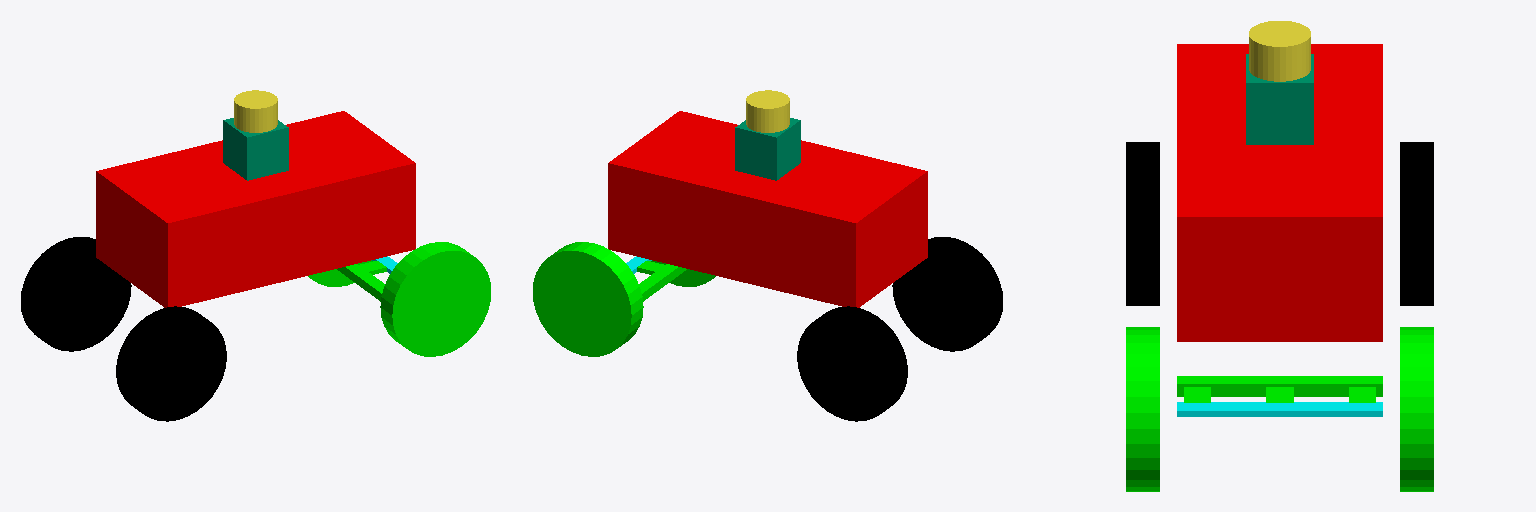
URDF robot description (navgroup):
<?xml version="1.0" ?>
<!-- =================================================================================== -->
<!-- |    This document was autogenerated by xacro from car.urdf.xacro                 | -->
<!-- |    EDITING THIS FILE BY HAND IS NOT RECOMMENDED                                 | -->
<!-- =================================================================================== -->
<robot name="navgroup" xmlns:body="http://playerstage.sourceforge.net/gazebo/xmlschema/#body" xmlns:controller="http://playerstage.sourceforge.net/gazebo/xmlschema/#controller" xmlns:gazebo="http://playerstage.sourceforge.net/gazebo/xmlschema/#gz" xmlns:geom="http://playerstage.sourceforge.net/gazebo/xmlschema/#geom" xmlns:interface="http://playerstage.sourceforge.net/gazebo/xmlschema/#interface" xmlns:joint="http://playerstage.sourceforge.net/gazebo/xmlschema/#joint" xmlns:model="http://playerstage.sourceforge.net/gazebo/xmlschema/#model" xmlns:physics="http://playerstage.sourceforge.net/gazebo/xmlschema/#physics" xmlns:rendering="http://playerstage.sourceforge.net/gazebo/xmlschema/#rendering" xmlns:sensor="http://playerstage.sourceforge.net/gazebo/xmlschema/#sensor" xmlns:xacro="http://www.ros.org/wiki/xacro">
  <!-- Physical Constant Macros -->
  <!-- Dimension Macros -->
  <!-- Physical Material Macros -->
  <material name="Red">
    <color rgba="1.0 0 0 1.0"/>
  </material>
  <material name="Green">
    <color rgba="0 1.0 0 1.0"/>
  </material>
  <material name="Blue">
    <color rgba="0 0 1.0 0.5"/>
  </material>
  <material name="Black">
    <color rgba="0 0 0 1.0"/>
  </material>
  <material name="Aqua">
    <color rgba="0 255 255 1.0"/>
  </material>

  <!-- Main body -->
  <link name="base_link">
    <inertial>
      <mass value="0.2"/>
      <origin xyz="0 0 0"/>
      <inertia ixx="0.2" ixy="0.0" ixz="0.0" iyy="0.2" iyz="0.0" izz="0.2"/>
    </inertial>
    <visual>
      <origin rpy="0 0 0" xyz="0 0 0"/>
      <geometry>
        <box size="0.3 0.15 0.1"/>
      </geometry>
      <material name="Red"/>
    </visual>
    <collision>
      <origin rpy="0 0 0" xyz="0 0 0"/>
      <geometry>
        <box size="0.3 0.15 0.1"/>
      </geometry>
    </collision>
  </link>
  <gazebo reference="base_link">
    <material>Gazebo/Red</material>
  </gazebo>

  <!-- Front link of Ackermann -->
  <!-- Joins to the Car body -->
  <joint name="front_joint" type="fixed">
    <parent link="base_link"/>
    <child link="front_link"/>
    <origin xyz="0.16 0.0 -0.1"/>
  </joint>
  <link name="front_link">
    <inertial>
      <mass value="0.01"/>
      <origin xyz="0 0 0"/>
      <inertia ixx="0.01" ixy="0.0" ixz="0.0" iyy="0.01" iyz="0.0" izz="0.01"/>
    </inertial>
    <visual>
      <geometry>
        <box size="0.015 0.15 0.005"/>
      </geometry>
      <material name="Aqua"/>
    </visual>
    <collision>
      <geometry>
        <box size="0.015 0.15 0.005"/>
      </geometry>
    </collision>
  </link>
  <gazebo reference="front_link">
    <material>Gazebo/Green</material>
  </gazebo>

  <!-- a link aligned with the steer direction -->
  <joint name="steer_joint" type="revolute">
    <limit effort="100" lower="-0.5" upper="0.5" velocity="10"/>
    <axis xyz="0 0 1"/>
    <parent link="front_link"/>
    <child link="steer_link"/>
    <origin rpy="0 0 0" xyz="0.0 0.0 0.0"/>
  </joint>
  <link name="steer_link">
    <inertial>
      <mass value="0.01"/>
      <origin xyz="0 0 0"/>
      <inertia ixx="0.01" ixy="0.0" ixz="0.0" iyy="0.01" iyz="0.0" izz="0.01"/>
    </inertial>
    <visual>
      <origin xyz="-0.02 0 0"/>
      <geometry>
        <box size="0.03 0.01995 0.005"/>
      </geometry>
      <material name="Green"/>
    </visual>
    <collision>
      <origin xyz="0.02 0 0"/>
      <geometry>
        <box size="0.03 0.01995 0.005"/>
      </geometry>
    </collision>
  </link>
  <gazebo reference="steer_link">
    <material>Gazebo/Green</material>
  </gazebo>

  <!-- the left Ackermann bar -->
  <joint name="front_left_bar_joint" type="revolute">
    <limit effort="100" lower="-0.5" upper="0.5" velocity="10"/>
    <axis xyz="0 0 1"/>
    <parent link="front_link"/>
    <child link="front_left_bar_link"/>
    <origin rpy="0 0 0" xyz="0.0 0.06 0.0"/>
  </joint>
  <link name="front_left_bar_link">
    <inertial>
      <mass value="0.01"/>
      <origin xyz="0 0 0"/>
      <inertia ixx="0.01" ixy="0.0" ixz="0.0" iyy="0.01" iyz="0.0" izz="0.01"/>
    </inertial>
    <visual>
      <origin xyz="-0.02 0 0"/>
      <geometry>
        <box size="0.03 0.01995 0.005"/>
      </geometry>
      <material name="Green"/>
    </visual>
    <collision>
      <origin xyz="-0.02 0 0"/>
      <geometry>
        <box size="0.03 0.01995 0.005"/>
      </geometry>
    </collision>
  </link>
  <gazebo reference="front_left_bar_link">
    <material>Gazebo/Green</material>
  </gazebo>

  <!-- the right Ackermann bar -->
  <joint name="front_right_bar_joint" type="revolute">
    <limit effort="100" lower="-0.5" upper="0.5" velocity="10"/>
    <axis xyz="0 0 1"/>
    <parent link="front_link"/>
    <child link="front_right_bar_link"/>
    <origin rpy="0 0 0" xyz="0.0 -0.06 0.0"/>
  </joint>
  <link name="front_right_bar_link">
    <inertial>
      <mass value="0.01"/>
      <origin xyz="0 0 0"/>
      <inertia ixx="0.01" ixy="0.0" ixz="0.0" iyy="0.01" iyz="0.0" izz="0.01"/>
    </inertial>
    <visual>
      <origin xyz="-0.02 0 0"/>
      <geometry>
        <box size="0.03 0.01995 0.005"/>
      </geometry>
      <material name="Green"/>
    </visual>
    <collision>
      <origin xyz="-0.02 0 0"/>
      <geometry>
        <box size="0.03 0.01995 0.005"/>
      </geometry>
    </collision>
  </link>
  <gazebo reference="front_right_bar_link">
    <material>Gazebo/Green</material>
  </gazebo>

  <!-- the front left wheel -->
  <joint name="front_left_wheel_joint" type="continuous">
    <axis xyz="0 1 0"/>
    <parent link="front_left_bar_link"/>
    <child link="front_left_wheel_link"/>
    <origin rpy="0 0 0" xyz="0 0.04 0"/>
  </joint>
  <link name="front_left_wheel_link">
    <inertial>
      <mass value="0.01"/>
      <origin xyz="0 0 0"/>
      <inertia ixx="0.01" ixy="0.0" ixz="0.0" iyy="0.01" iyz="0.0" izz="0.01"/>
    </inertial>
    <visual>
      <origin rpy="1.57079632679 0 0" xyz="0 0 0"/>
      <geometry>
        <cylinder length="0.025" radius="0.06"/>
      </geometry>
      <material name="Green"/>
    </visual>
    <collision>
      <origin rpy="1.57079632679 0 0" xyz="0 0 0"/>
      <geometry>
        <cylinder length="0.025" radius="0.06"/>
      </geometry>
    </collision>
  </link>
  <gazebo reference="front_left_wheel_link">
    <material>Gazebo/Green</material>
  </gazebo>

  <transmission name="tran_front_left">
  <type>transmission_interface/SimpleTransmission</type>
  <joint name="front_left_wheel_joint">
    <hardwareInterface>EffortJointInterface</hardwareInterface>
  </joint>
  <actuator name="motor1">
    <hardwareInterface>EffortJointInterface</hardwareInterface>
    <mechanicalReduction>1</mechanicalReduction>
  </actuator>
</transmission>


  <!-- the front right wheel -->
  <joint name="front_right_wheel_joint" type="continuous">
    <axis xyz="0 1 0"/>
    <parent link="front_right_bar_link"/>
    <child link="front_right_wheel_link"/>
    <origin rpy="0 0 0" xyz="0 -0.04 0"/>
  </joint>
  <link name="front_right_wheel_link">
    <inertial>
      <mass value="0.01"/>
      <origin xyz="0 0 0"/>
      <inertia ixx="0.01" ixy="0.0" ixz="0.0" iyy="0.01" iyz="0.0" izz="0.01"/>
    </inertial>
    <visual>
      <origin rpy="1.57079632679 0 0" xyz="0 0 0"/>
      <geometry>
        <cylinder length="0.025" radius="0.06"/>
      </geometry>
      <material name="Green"/>
    </visual>
    <collision>
      <origin rpy="1.57079632679 0 0" xyz="0 0 0"/>
      <geometry>
        <cylinder length="0.025" radius="0.06"/>
      </geometry>
    </collision>
  </link>
  <gazebo reference="front_right_wheel_link">
    <material>Gazebo/Green</material>
    <turnGravityOff>false</turnGravityOff>
  </gazebo>

  <transmission name="tran_front_right">
  <type>transmission_interface/SimpleTransmission</type>
  <joint name="front_right_wheel_joint">
    <hardwareInterface>EffortJointInterface</hardwareInterface>
  </joint>
  <actuator name="motor2">
    <hardwareInterface>EffortJointInterface</hardwareInterface>
    <mechanicalReduction>1</mechanicalReduction>
  </actuator>
</transmission>

  <!-- the Ackerman bar -->
  <joint name="ackermann_joint" type="revolute">
    <limit effort="100" lower="-0.5" upper="0.5" velocity="10"/>
    <axis xyz="0 0 1"/>
    <parent link="steer_link"/>
    <child link="ackermann_bar_link"/>
    <origin rpy="0 0 0" xyz="-0.04 0 0"/>
  </joint>
  <link name="ackermann_bar_link">
    <inertial>
      <mass value="0.01"/>
      <origin xyz="0 0 0"/>
      <inertia ixx="0.01" ixy="0.0" ixz="0.0" iyy="0.01" iyz="0.0" izz="0.01"/>
    </inertial>
    <visual>
      <geometry>
        <box size="0.015 0.15 0.01"/>
      </geometry>
      <material name="Green"/>
    </visual>
    <collision>
      <geometry>
        <box size="0.015 0.15 0.01"/>
      </geometry>
    </collision>
  </link>
  <gazebo reference="front_link">
    <material>Gazebo/Green</material>
  </gazebo>
  <gazebo reference="ackermann_bar_link">
    <material>Gazebo/Blue</material>
  </gazebo>

  <!-- Gazebo Ackermann loop joints -->
  <gazebo>
    <joint:hinge name="ackermann_left_bar_joint">
      <body1>ackermann_bar_link</body1>
      <body2>front_left_bar_link</body2>
      <anchor>ackermann_bar_link</anchor>
      <axis>0 0 1</axis>
      <anchorOffset>0 0.06 0</anchorOffset>
    </joint:hinge>
  </gazebo>
  <gazebo>
    <joint:hinge name="ackermann_right_bar_joint">
      <body1>ackermann_bar_link</body1>
      <body2>front_right_bar_link</body2>
      <anchor>ackermann_bar_link</anchor>
      <axis>0 0 1</axis>
      <anchorOffset>0 -0.06 0</anchorOffset>
    </joint:hinge>
  </gazebo>

  <!-- the back left wheel -->
  <joint name="back_left_wheel_joint" type="continuous">
    <axis xyz="0 1 0"/>
    <parent link="base_link"/>
    <child link="back_left_wheel_link"/>
    <origin rpy="0 0 0" xyz="-0.16 0.1 -0.1"/>
  </joint>
  <link name="back_left_wheel_link">
    <inertial>
      <mass value="0.01"/>
      <origin xyz="0 0 0"/>
      <inertia ixx="0.01" ixy="0.0" ixz="0.0" iyy="0.01" iyz="0.0" izz="0.01"/>
    </inertial>
    <visual>
      <origin rpy="1.57079632679 0 0" xyz="0 0 0"/>
      <geometry>
        <cylinder length="0.025" radius="0.06"/>
      </geometry>
      <material name="Black"/>
    </visual>
    <collision>
      <origin rpy="1.57079632679 0 0" xyz="0 0 0"/>
      <geometry>
        <cylinder length="0.025" radius="0.06"/>
      </geometry>
    </collision>
  </link>
  <gazebo reference="back_left_wheel_link">
    <material>Gazebo/Black</material>
  </gazebo>

  <!-- the back right wheel -->
  <joint name="back_right_wheel_joint" type="continuous">
    <axis xyz="0 1 0"/>
    <parent link="base_link"/>
    <child link="back_right_wheel_link"/>
    <origin rpy="0 0 0" xyz="-0.16 -0.1 -0.1"/>
  </joint>
  <link name="back_right_wheel_link">
    <inertial>
      <mass value="0.01"/>
      <origin xyz="0 0 0"/>
      <inertia ixx="0.01" ixy="0.0" ixz="0.0" iyy="0.01" iyz="0.0" izz="0.01"/>
    </inertial>
    <visual>
      <origin rpy="1.57079632679 0 0" xyz="0 0 0"/>
      <geometry>
        <cylinder length="0.025" radius="0.06"/>
      </geometry>
      <material name="Black"/>
    </visual>
    <collision>
      <origin rpy="1.57079632679 0 0" xyz="0 0 0"/>
      <geometry>
        <cylinder length="0.025" radius="0.06"/>
      </geometry>
    </collision>
  </link>
  <gazebo reference="back_right_wheel_link">
    <material>Gazebo/Black</material>
  </gazebo>

  <!-- Ackermann plugin -->
  <gazebo>
    <controller:ackermann_plugin name="ackermann_controller" plugin="libackermann_plugin.so">
      <alwaysOn>true</alwaysOn>
      <update>100</update>
      <updateRate>100.0</updateRate>
      <leftJoint>back_left_wheel_joint</leftJoint>
      <rightJoint>back_right_wheel_joint</rightJoint>
      <steerJoint>steer_joint</steerJoint>
      <wheelSeparationWidth>0.16</wheelSeparationWidth>
      <wheelSeparationLength>0.32</wheelSeparationLength>
      <wheelDiameter>0.041</wheelDiameter>
      <driveTorque>5</driveTorque>
      <steerTorque>5</steerTorque>
      <interface:position name="position_iface_0"/>
      <robotNamespace>/</robotNamespace>
      <topicName>pilot/drive</topicName>
    </controller:ackermann_plugin>
    <canonicalBody>base_footprint</canonicalBody>

    <!-- this publishes empty joint_states due to no transmission, but
    triggering robot_state_publisher to publish tf between fixed joints in erratic,
    (e.g. base_laser_link for the base_scan frame) -->
    <controller:gazebo_ros_controller_manager name="gazebo_ros_controller_manager" plugin="libgazebo_ros_controller_manager.so">
      <alwaysOn>true</alwaysOn>
      <updateRate>100.0</updateRate>
      <interface:audio name="gazebo_ros_controller_manager_dummy_iface"/>
    </controller:gazebo_ros_controller_manager>
  </gazebo>
  <joint name="laser_base_mount_joint" type="fixed">
    <origin rpy="0 0 0" xyz="0 0 0.05"/>
    <parent link="base_link"/>
    <child link="laser_base_link"/>
  </joint>
  <link name="laser_base_link" type="fixed">
    <inertial>
      <mass value="0.1"/>
      <origin xyz="0 0 0.0"/>
      <inertia ixx="0.1" ixy="0" ixz="0" iyy="0.1" iyz="0" izz="0.1"/>
    </inertial>
    <visual>
      <origin rpy="0 0 0" xyz="0 0 0.025"/>
      <geometry>
        <box size="0.05 0.05 0.05"/>
      </geometry>
    </visual>
    <collision>
      <origin rpy="0 0 0" xyz="0 0 0.025"/>
      <geometry>
        <box size="0.05 0.05 0.05"/>
      </geometry>
    </collision>
  </link>
  <joint name="base_scan_joint" type="fixed">
    <origin rpy="0 0 0" xyz="0 0 0.05"/>
    <parent link="laser_base_link"/>
    <child link="base_scan_link"/>
  </joint>
  <link name="base_scan_link" type="laser">
    <inertial>
      <mass value="0.1"/>
      <origin xyz="0 0 0.0"/>
      <inertia ixx="0.1" ixy="0" ixz="0" iyy="0.1" iyz="0" izz="0.1"/>
    </inertial>
    <visual>
      <origin rpy="0 0 0" xyz="0 0 0.014"/>
      <geometry>
        <cylinder length="0.028" radius="0.0229"/>
      </geometry>
    </visual>
    <collision>
      <origin rpy="0 0 0" xyz="0 0 0.014"/>
      <geometry>
        <cylinder length="0.028" radius="0.0229"/>
      </geometry>
    </collision>
  </link>
  <gazebo reference="base_scan_link">
    <sensor:ray name="laser">
      <rayCount>683</rayCount>
      <rangeCount>683</rangeCount>
      <laserCount>1</laserCount>
      <origin>0.0 0.0 0.0</origin>
      <displayRays>false</displayRays>
      <minAngle>-135</minAngle>
      <maxAngle> 135</maxAngle>
      <minRange>0.06</minRange>
      <maxRange>4.0</maxRange>
      <resRange>0.001</resRange>
      <updateRate>10.0</updateRate>
      <controller:gazebo_ros_laser name="gazebo_ros_base_scan_link_controller" plugin="libgazebo_ros_laser.so">
        <gaussianNoise>0.005</gaussianNoise>
        <alwaysOn>true</alwaysOn>
        <updateRate>10.0</updateRate>
        <topicName>base_scan/scan</topicName>
        <frameName>base_scan_link</frameName>
        <interface:laser name="gazebo_ros_base_scan_link_iface"/>
      </controller:gazebo_ros_laser>
    </sensor:ray>
  </gazebo>
  <gazebo reference="laser_base_link">
    <material>Gazebo/Black</material>
  </gazebo>
  <gazebo reference="base_scan_link">
    <material>Gazebo/Black</material>
  </gazebo>
</robot>

--- Facts derived from the render (not from the file) ---
3 views of the same robot in one strip: view 1: azimuth 30°, elevation 25°; view 2: azimuth 150°, elevation 25°; view 3: azimuth 270°, elevation 25° (orthographic).
Robot: navgroup — 12 links, 11 joints (4 revolute, 4 continuous, 3 fixed); root link base_link; default pose: every joint at zero.
Visible links, largest first — view 1: base_link, front_right_wheel_link, back_right_wheel_link, back_left_wheel_link, laser_base_link, base_scan_link, ackermann_bar_link, front_left_wheel_link; view 2: base_link, front_left_wheel_link, back_left_wheel_link, back_right_wheel_link, laser_base_link, base_scan_link, ackermann_bar_link, front_right_wheel_link; view 3: base_link, front_left_wheel_link, front_right_wheel_link, back_left_wheel_link, back_right_wheel_link, laser_base_link, ackermann_bar_link, base_scan_link, front_link.
Link boxes in pixels (x1,y1,x2,y2): base_link: (96, 111, 415, 307); front_right_wheel_link: (380, 242, 490, 356); back_right_wheel_link: (116, 306, 226, 421); back_left_wheel_link: (21, 237, 131, 351); laser_base_link: (223, 118, 288, 180); base_scan_link: (234, 90, 277, 132); ackermann_bar_link: (337, 264, 384, 301); front_left_wheel_link: (308, 260, 372, 286); base_link: (608, 111, 927, 307); front_left_wheel_link: (533, 242, 643, 356); back_left_wheel_link: (797, 306, 907, 421); back_right_wheel_link: (892, 237, 1002, 351); laser_base_link: (735, 118, 800, 180); base_scan_link: (746, 90, 789, 132); ackermann_bar_link: (639, 264, 686, 301); front_right_wheel_link: (651, 260, 715, 286); base_link: (1177, 44, 1382, 341); front_left_wheel_link: (1400, 327, 1433, 491); front_right_wheel_link: (1126, 327, 1159, 491); back_left_wheel_link: (1400, 142, 1433, 305); back_right_wheel_link: (1126, 142, 1159, 305); laser_base_link: (1246, 54, 1313, 144); ackermann_bar_link: (1177, 376, 1382, 396); base_scan_link: (1249, 21, 1310, 81); front_link: (1177, 402, 1382, 416).
Bounding box of the posed robot: 0.44 × 0.225 × 0.288 m (x, y, z).
Geometry: primitives only (box / cylinder / sphere), no mesh files.
